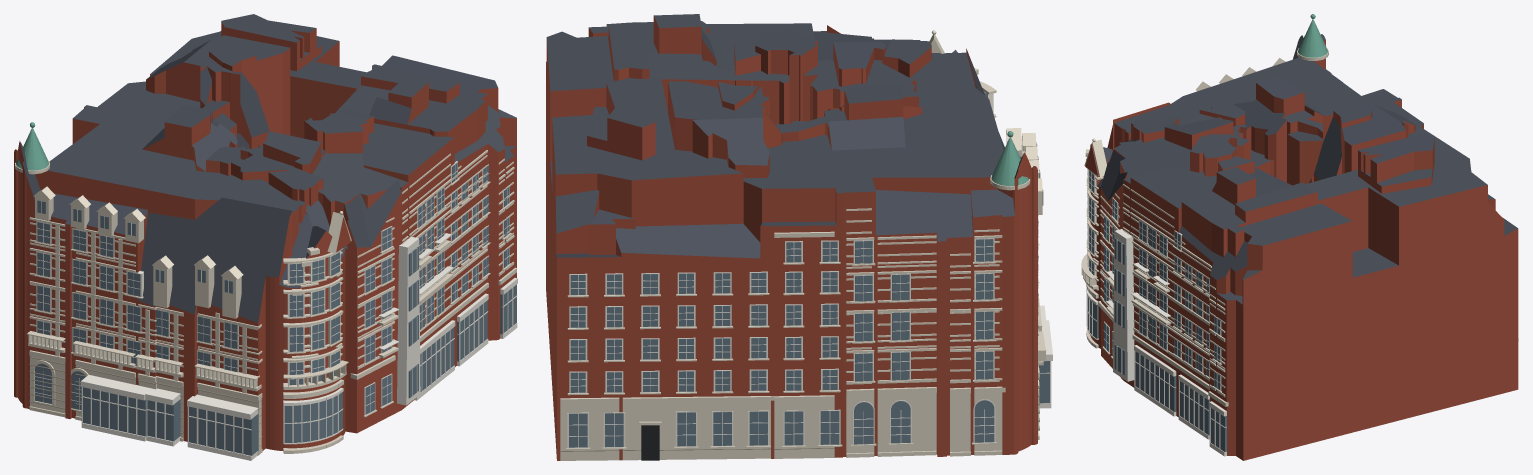
Rendered from hotel-de-l-europe.glb.
3 views of the same model, side by side, from view 1: azimuth 30°, elevation 25°; view 2: azimuth 150°, elevation 25°; view 3: azimuth 270°, elevation 25° (orthographic). The views are drawn at different scales.
Parts seen in each view (by area): view 1: hotel-de-l-europe; view 2: hotel-de-l-europe; view 3: hotel-de-l-europe.
Part boxes in pixels (<box>): hotel-de-l-europe: <box>14,14,517,460</box>; hotel-de-l-europe: <box>546,14,1052,460</box>; hotel-de-l-europe: <box>1081,14,1518,460</box>.
Bounding box in the file's own units: 52.67 × 29.88 × 47.43.
